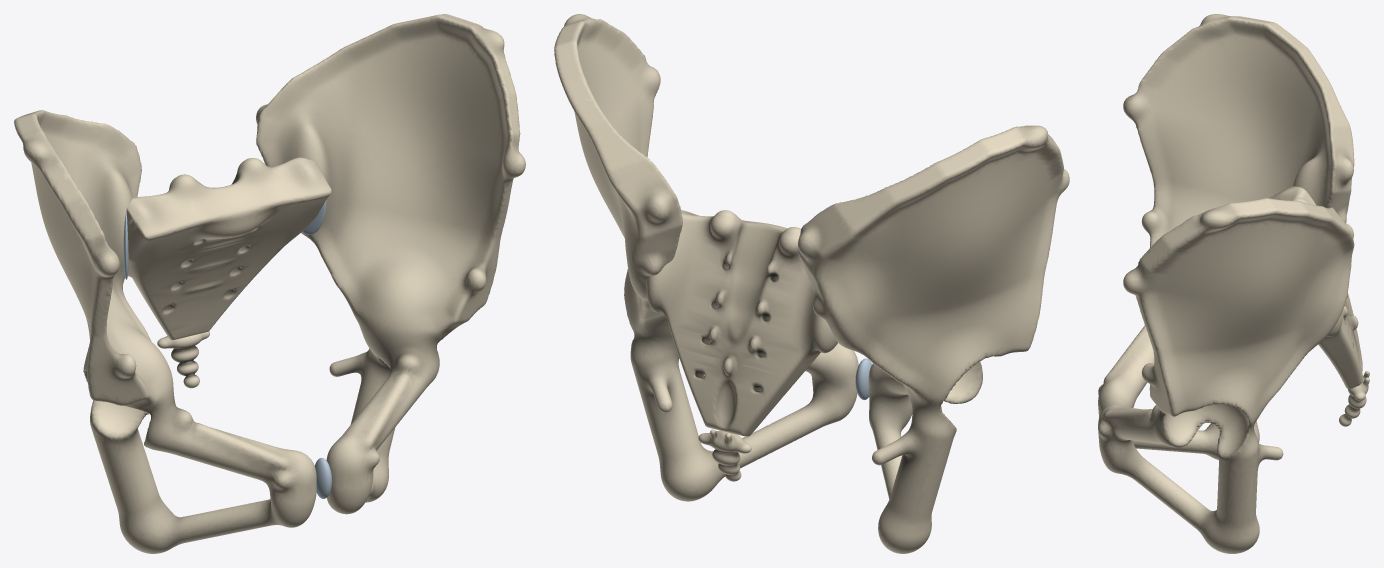
File: esqueleto-pelvis.glb
The picture shows the model from 3 angles, left to right: view 1: azimuth 30°, elevation 25°; view 2: azimuth 150°, elevation 25°; view 3: azimuth 270°, elevation 25°; orthographic projection. The views are drawn at different scales.
Parts seen in each view (by area): view 1: ilium_L, ilium_R, pubis_R, sacrum_S1, pubis_L, ischium_R, sacrum_S3, sacrum_S5, ischium_L, sacrum_S4, sacrum_S2, coccyx; view 2: ilium_R, ilium_L, ischium_L, ischium_R, sacrum_S3, sacrum_S4, sacrum_S5, sacrum_S2, pubis_L, pubis_R, sacrum_S1, coccyx; view 3: ilium_L, ilium_R, ischium_L, pubis_L, pubis_R, sacrum_S5, ischium_R, sacrum_S4, coccyx, sacrum_S1.
Part boxes in pixels (<box>): ilium_L: <box>256,14,525,339</box>; ilium_R: <box>14,110,173,408</box>; pubis_R: <box>135,388,316,540</box>; sacrum_S1: <box>126,157,331,243</box>; pubis_L: <box>326,332,450,514</box>; ischium_R: <box>85,376,205,553</box>; sacrum_S3: <box>128,220,313,280</box>; sacrum_S5: <box>137,275,256,340</box>; ischium_L: <box>329,320,395,502</box>; sacrum_S4: <box>132,245,285,300</box>; sacrum_S2: <box>127,182,327,263</box>; coccyx: <box>157,331,209,388</box>; ilium_R: <box>798,125,1069,389</box>; ilium_L: <box>554,14,682,323</box>; ischium_L: <box>626,309,759,501</box>; ischium_R: <box>872,384,956,553</box>; sacrum_S3: <box>646,264,837,345</box>; sacrum_S4: <box>648,301,835,377</box>; sacrum_S5: <box>676,348,799,436</box>; sacrum_S2: <box>666,228,814,300</box>; pubis_L: <box>742,343,858,461</box>; pubis_R: <box>868,361,982,482</box>; sacrum_S1: <box>681,210,800,256</box>; coccyx: <box>698,429,751,481</box>; ilium_L: <box>1123,198,1354,416</box>; ilium_R: <box>1123,14,1354,247</box>; ischium_L: <box>1187,403,1283,553</box>; pubis_L: <box>1098,403,1188,522</box>; pubis_R: <box>1098,325,1188,452</box>; sacrum_S5: <box>1325,298,1362,388</box>; ischium_R: <box>1188,421,1259,459</box>; sacrum_S4: <box>1318,293,1355,353</box>; coccyx: <box>1339,371,1369,426</box>; sacrum_S1: <box>1268,186,1310,203</box>.
Size of the model in its own units: 0.2851 by 0.2566 by 0.1598.
